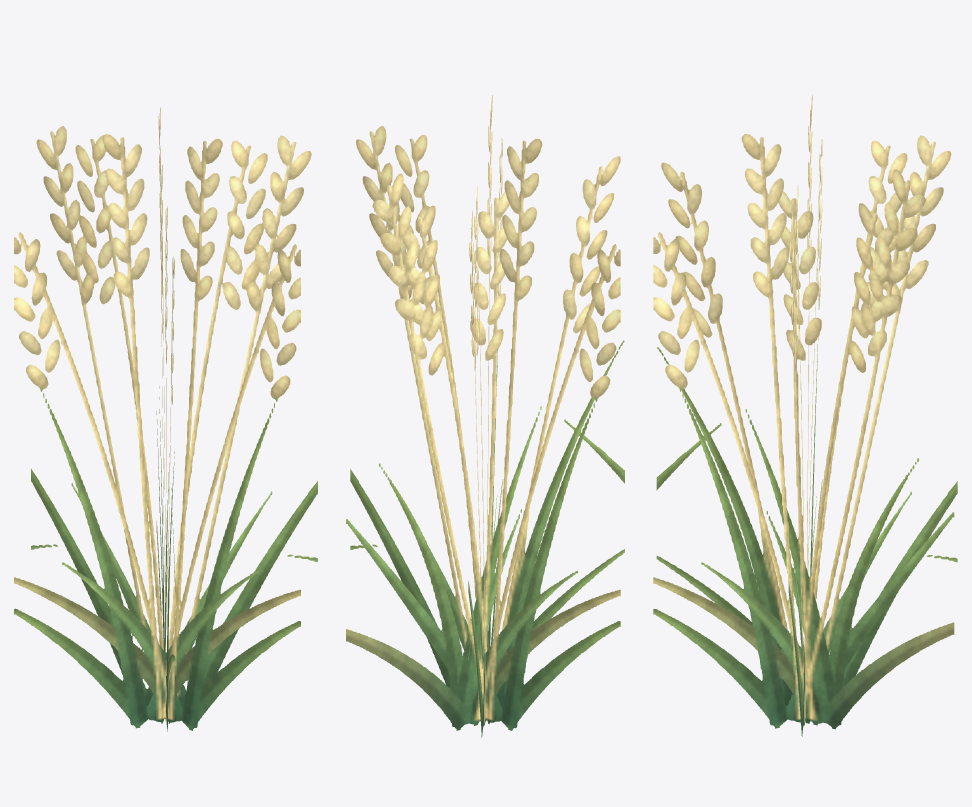
The model's file is grass_seedhead.glb.
3 views of the same model, side by side, from view 1: azimuth 30°, elevation 25°; view 2: azimuth 150°, elevation 25°; view 3: azimuth 270°, elevation 25° (orthographic).
Visible parts, largest first — view 1: grass_seedhead; view 2: grass_seedhead; view 3: grass_seedhead.
Boxes of the visible parts, x1,y1,x2,y2 form: grass_seedhead: (14,107,317,731); grass_seedhead: (346,95,624,737); grass_seedhead: (653,95,957,736).
Bounding box in the file's own units: 0.2587 × 0.55 × 0.2373.
1 material, 1 textured.
